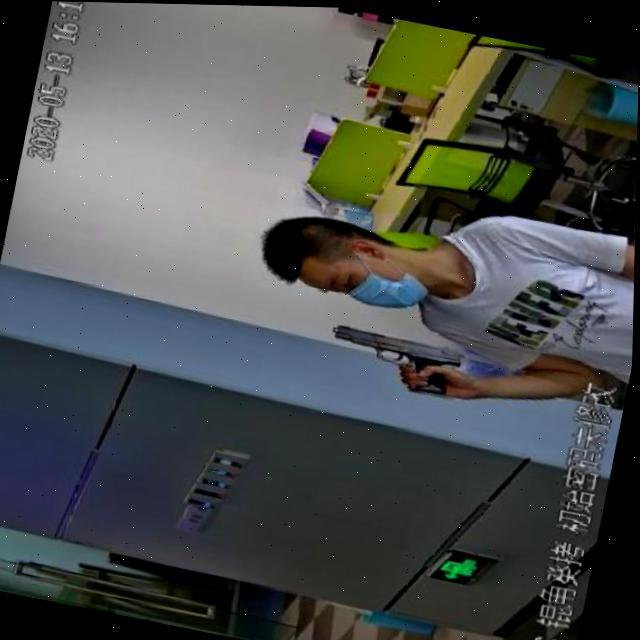gun: (316, 311, 486, 407)
